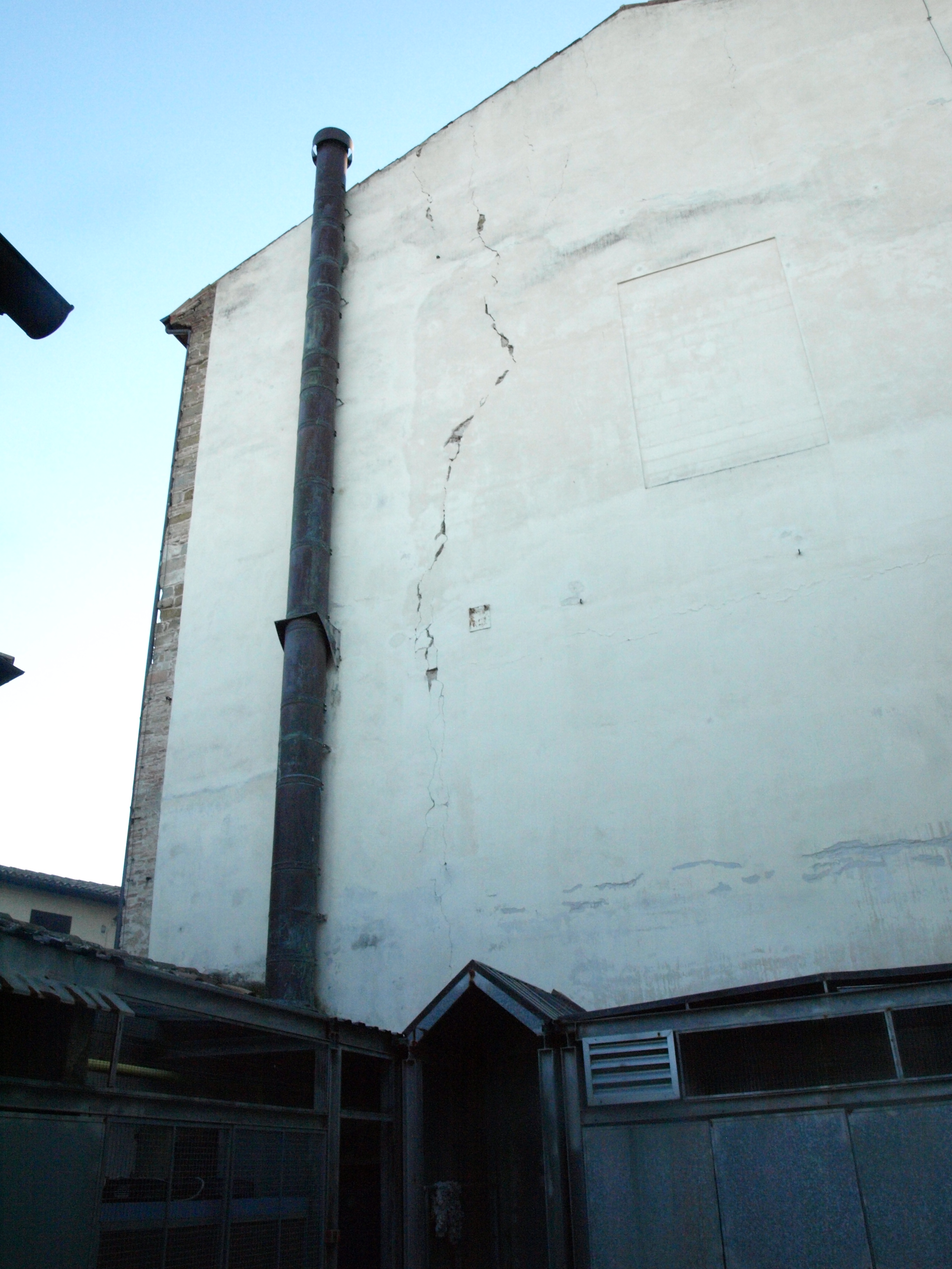Crack: (371, 148, 617, 924)
